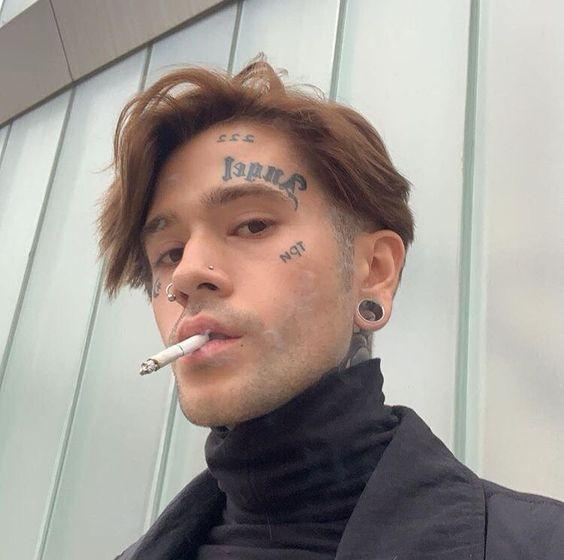cigarette: (140, 334, 216, 377)
